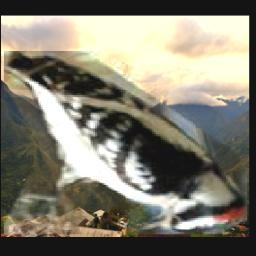Woodpecker: (3, 51, 246, 234)
